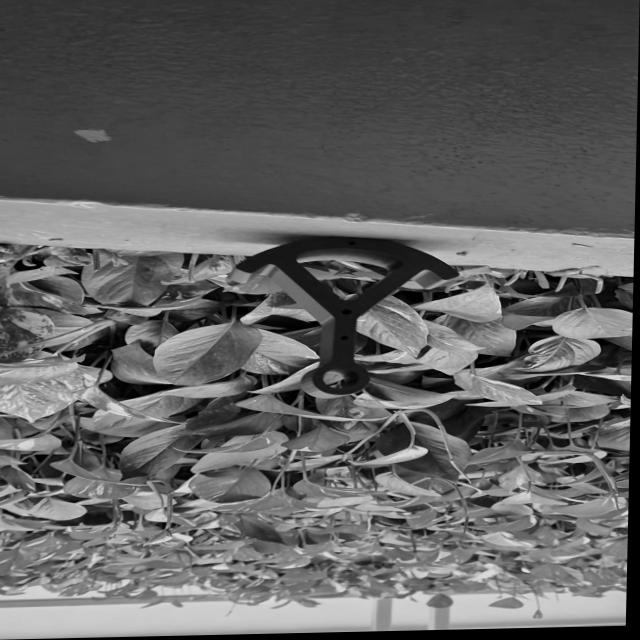haptic: (221, 232, 466, 403)
